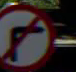Don't turn right: (0, 3, 54, 67)
